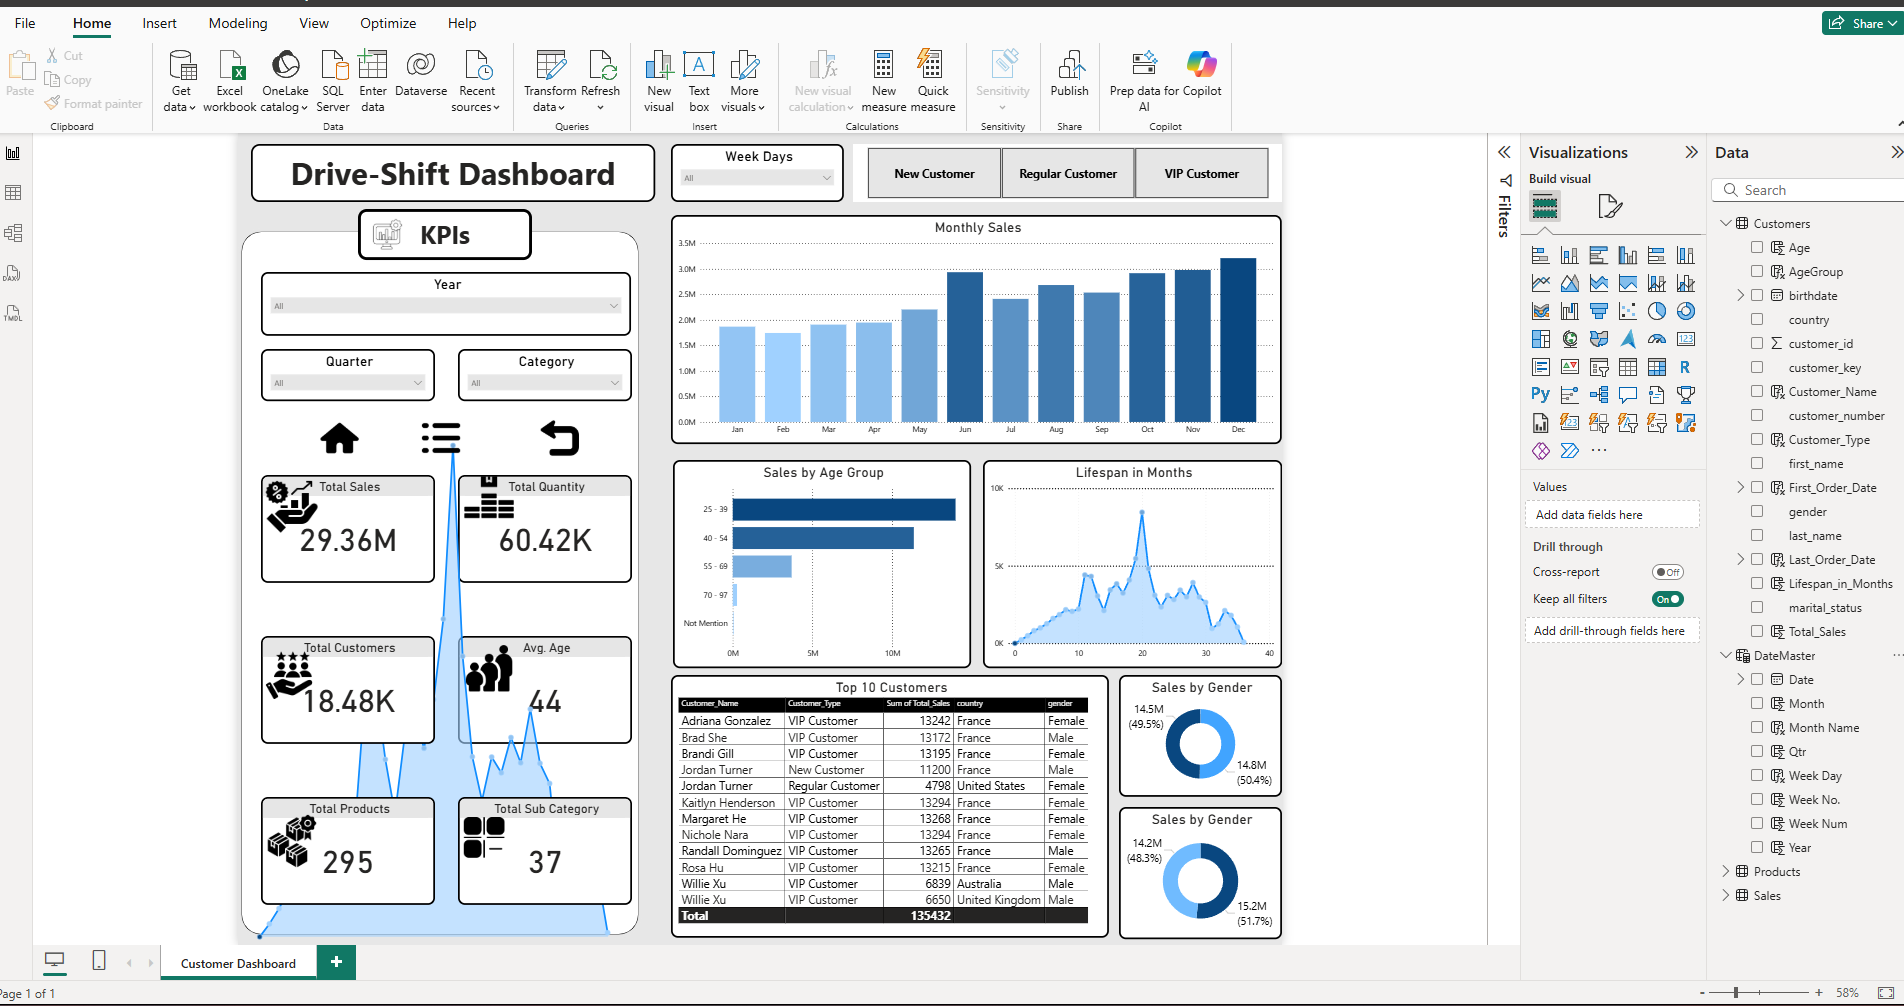

What the dashboard file says about the page in this screenshot:
{"tool":"powerbi","page":{"name":"Customer Dashboard","canvas":[1800,1400],"ordinal":0},"visuals":[{"type":"textbox","box":[22.4,19,696.6,100],"z":0},{"type":"shape","box":[0,163.8,696.6,1224.1],"z":1000},{"type":"textbox","box":[206.9,131,300,87.9],"z":2000},{"type":"card","title":"Total Sales","fields":{"Values":["Sum(Sales.sales_amount)"]},"box":[39.7,589.7,300,186.2],"z":3000},{"type":"card","title":"Total Quantity","fields":{"Values":["Sum(Sales.quantity)"]},"box":[379.3,589.7,300,186.2],"z":4000},{"type":"card","title":"Avg. Age","fields":{"Values":["Avg(Customers.Age)"]},"box":[379.3,867.2,300,186.2],"z":6000},{"type":"slicer","title":"Year","fields":{"Values":["DateMaster.Year"]},"box":[39.7,239.7,637.9,110.3],"z":9000},{"type":"slicer","title":"Quarter","fields":{"Values":["DateMaster.Qtr"]},"box":[39.7,372.4,300,89.7],"z":10000},{"type":"slicer","title":"Category","fields":{"Values":["Products.category"]},"box":[379.3,372.4,300,89.7],"z":11000},{"type":"columnChart","title":"Monthly Sales  ","fields":{"Y":["Sum(Sales.sales_amount)"],"Category":["DateMaster.Month Name"]},"box":[746.6,141.4,1053.4,394.8],"z":12000},{"type":"clusteredBarChart","title":"Sales by Age Group","fields":{"Category":["Customers.AgeGroup"],"Y":["Sum(Customers.Total_Sales)"]},"box":[750,563.8,513.8,358.6],"z":13000},{"type":"tableEx","title":"Top 10 Customers","fields":{"Values":["Customers.Customer_Name","Customers.Customer_Type","Sum(Customers.Total_Sales)","Customers.country","Customers.gender"]},"box":[746.6,934.5,755.2,453.4],"z":14000},{"type":"lineChart","title":"Lifespan  in Months","fields":{"Category":["Customers.Lifespan_in_Months"],"Y":["Sum(Customers.Lifespan_in_Months)"]},"box":[1284.5,563.8,515.5,358.6],"z":15000},{"type":"slicer","title":"Week Days","fields":{"Values":["DateMaster.Week Day"]},"box":[746.6,19,298.3,100],"z":16000},{"type":"slicer","fields":{"Values":["Customers.Customer_Type"]},"box":[1060.3,19,739.7,100],"z":17000},{"type":"donutChart","title":"Sales by Gender","fields":{"Category":["Customers.gender"],"Y":["Sum(Customers.Total_Sales)"]},"box":[1519,934.5,281,210.3],"z":18000},{"type":"donutChart","title":"Sales by Gender","fields":{"Category":["Customers.marital_status"],"Y":["Sum(Customers.Total_Sales)"]},"box":[1519,1162.1,281,227.6],"z":19000},{"type":"lineChart","title":"Lifespan  in Months","fields":{"Category":["Customers.Lifespan_in_Months"],"Y":["Sum(Customers.Lifespan_in_Months)"]},"box":[22.4,470.7,696.6,925.9],"z":19500},{"type":"card","title":"Total Sub Category","fields":{"Values":["Count(Products.subcategory)"]},"box":[379.3,1144.8,300,186.2],"z":19750},{"type":"image","box":[225.9,139.7,63.8,70.7],"z":20000},{"type":"card","title":"Total Products ","fields":{"Values":["Count(Products.product_id)"]},"box":[39.7,1144.8,300,186.2],"z":20500},{"type":"image","box":[39.7,589.7,106.9,110.3],"z":21000},{"type":"card","title":"Total Customers","fields":{"Values":["Count(Customers.customer_id)"]},"box":[39.7,867.2,300,186.2],"z":21500},{"type":"image","box":[379.3,572.4,106.9,110.3],"z":22000},{"type":"image","box":[39.7,884.5,96.6,100],"z":23000},{"type":"image","box":[387.9,875.9,89.7,93.1],"z":24000},{"type":"image","box":[379.3,1165.5,89.7,98.3],"z":26000},{"type":"image","box":[136.2,487.9,77.6,75.9],"z":27000},{"type":"image","box":[39.7,1165.5,106.9,110.3],"z":27500},{"type":"image","box":[312.1,487.9,75.9,75.9],"z":28000},{"type":"image","box":[506.9,487.9,96.6,75.9],"z":30000}]}

Visuals, with their boxes on the page's 1800x1400 design canvas (x1, y1, x2, y2). These are canvas units, not pixel positions in the 1904x1006 screenshot, which may show the page scaled, cropped or inside an application window:
textbox: (22, 19, 719, 119)
shape: (0, 164, 697, 1388)
textbox: (207, 131, 507, 219)
"Total Sales" card: (40, 590, 340, 776)
"Total Quantity" card: (379, 590, 679, 776)
"Avg. Age" card: (379, 867, 679, 1053)
"Year" slicer: (40, 240, 678, 350)
"Quarter" slicer: (40, 372, 340, 462)
"Category" slicer: (379, 372, 679, 462)
"Monthly Sales  " columnChart: (747, 141, 1800, 536)
"Sales by Age Group" clusteredBarChart: (750, 564, 1264, 922)
"Top 10 Customers" tableEx: (747, 934, 1502, 1388)
"Lifespan  in Months" lineChart: (1284, 564, 1800, 922)
"Week Days" slicer: (747, 19, 1045, 119)
slicer - Customers.Customer_Type: (1060, 19, 1800, 119)
"Sales by Gender" donutChart: (1519, 934, 1800, 1145)
"Sales by Gender" donutChart: (1519, 1162, 1800, 1390)
"Lifespan  in Months" lineChart: (22, 471, 719, 1397)
"Total Sub Category" card: (379, 1145, 679, 1331)
image: (226, 140, 290, 210)
"Total Products " card: (40, 1145, 340, 1331)
image: (40, 590, 147, 700)
"Total Customers" card: (40, 867, 340, 1053)
image: (379, 572, 486, 683)
image: (40, 884, 136, 984)
image: (388, 876, 478, 969)
image: (379, 1166, 469, 1264)
image: (136, 488, 214, 564)
image: (40, 1166, 147, 1276)
image: (312, 488, 388, 564)
image: (507, 488, 604, 564)
